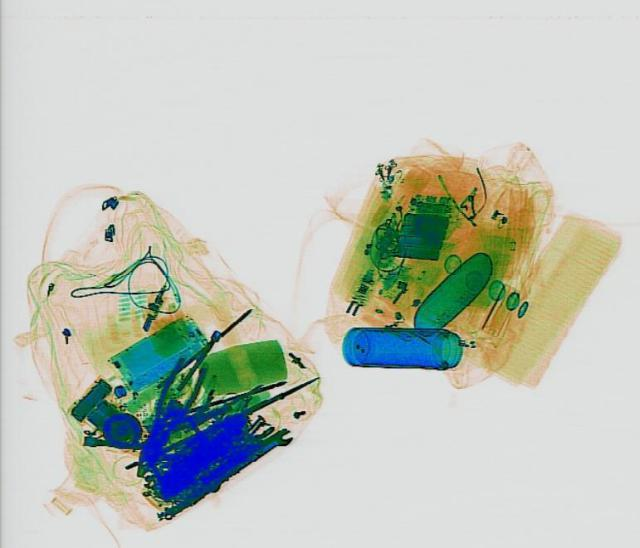Pliers: (120, 354, 210, 481)
Wrench: (155, 423, 297, 522)
